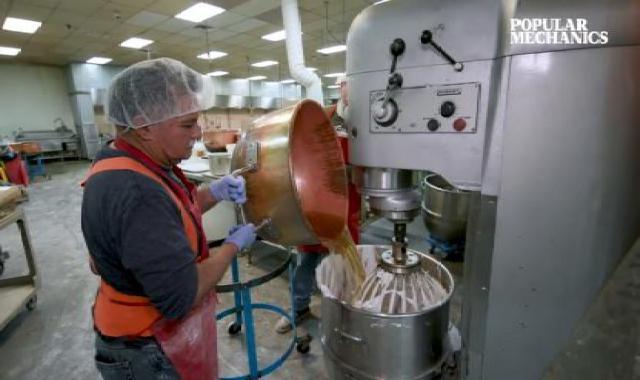hairnet: (101, 54, 216, 129)
